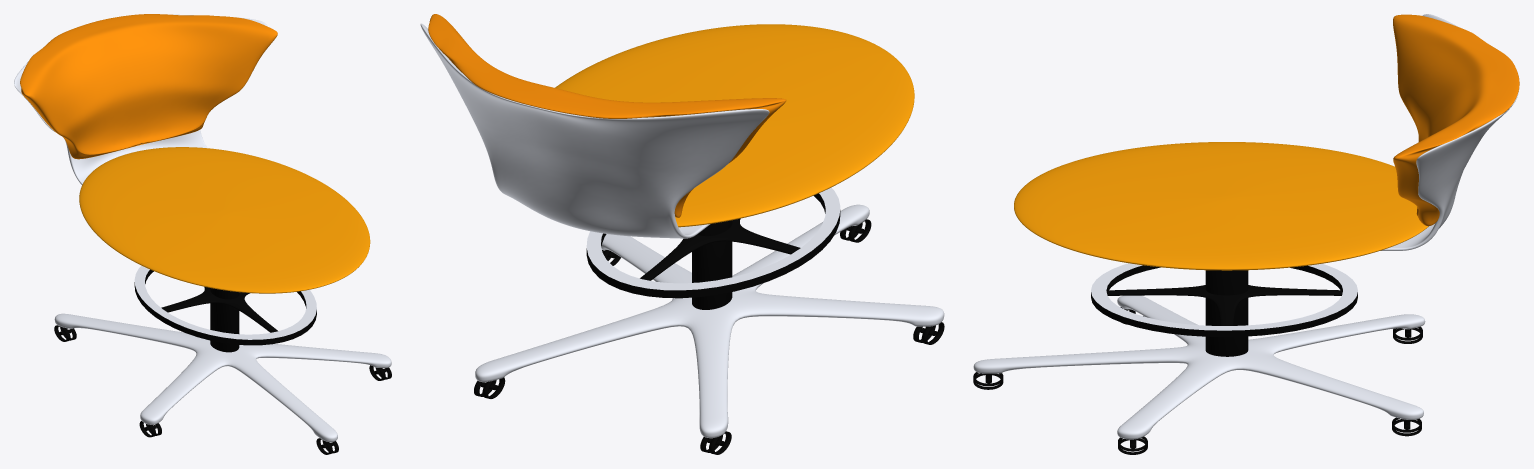
3 views of the same model, side by side, from view 1: azimuth 30°, elevation 25°; view 2: azimuth 150°, elevation 25°; view 3: azimuth 270°, elevation 25° (orthographic). The views are drawn at different scales.
Visible parts, largest first — view 1: Cylinder.002, Cube.004, Cube, Cylinder.001, Cube.003, Cylinder, Cube.001; view 2: Cylinder.002, Cube.003, Cube, Cube.004, Cylinder.001, Cylinder, Cube.001; view 3: Cylinder.002, Cube.004, Cube, Cylinder.001, Cube.003, Cylinder, Cube.001.
Part boxes in pixels (<box>): Cylinder.002: <box>79,147,370,293</box>; Cube.004: <box>20,14,277,159</box>; Cube: <box>54,313,391,442</box>; Cylinder.001: <box>134,265,316,345</box>; Cube.003: <box>14,14,266,184</box>; Cylinder: <box>210,288,239,352</box>; Cube.001: <box>161,287,277,332</box>; Cylinder.002: <box>555,24,914,227</box>; Cube.003: <box>420,23,769,238</box>; Cube: <box>475,204,944,438</box>; Cube.004: <box>428,14,786,217</box>; Cylinder.001: <box>586,187,840,298</box>; Cylinder: <box>692,220,732,309</box>; Cube.001: <box>640,218,800,280</box>; Cylinder.002: <box>1014,142,1428,270</box>; Cube.004: <box>1393,14,1519,226</box>; Cube: <box>973,295,1425,439</box>; Cylinder.001: <box>1091,263,1357,336</box>; Cube.003: <box>1380,14,1519,250</box>; Cylinder: <box>1205,270,1248,356</box>; Cube.001: <box>1106,285,1342,325</box>.
Size of the model in its own units: 0.52 by 0.52 by 0.84.
